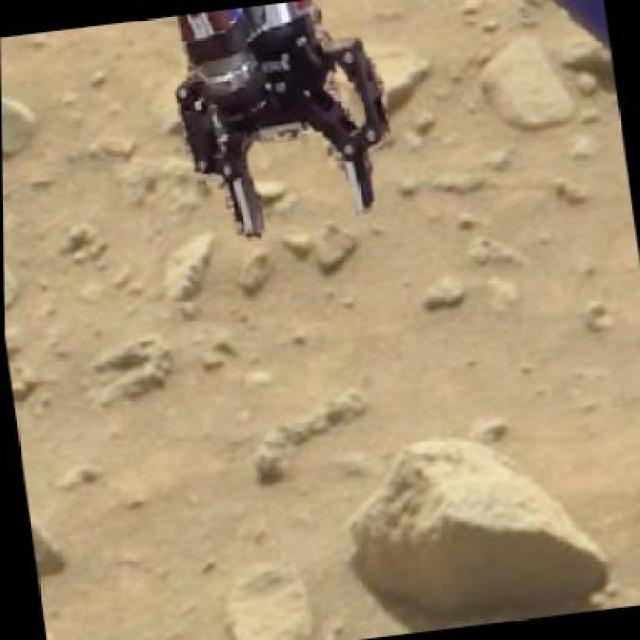rock: (333, 414, 625, 629), (467, 34, 579, 135), (26, 508, 71, 598)
